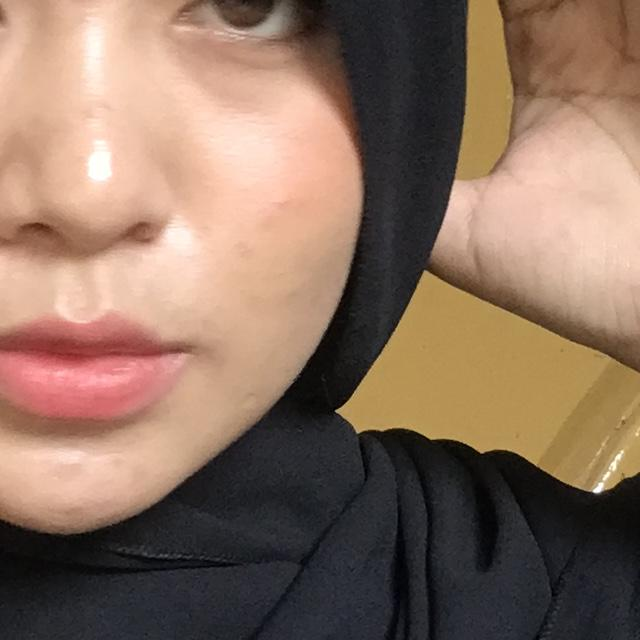mendengar: (310, 0, 640, 546)
